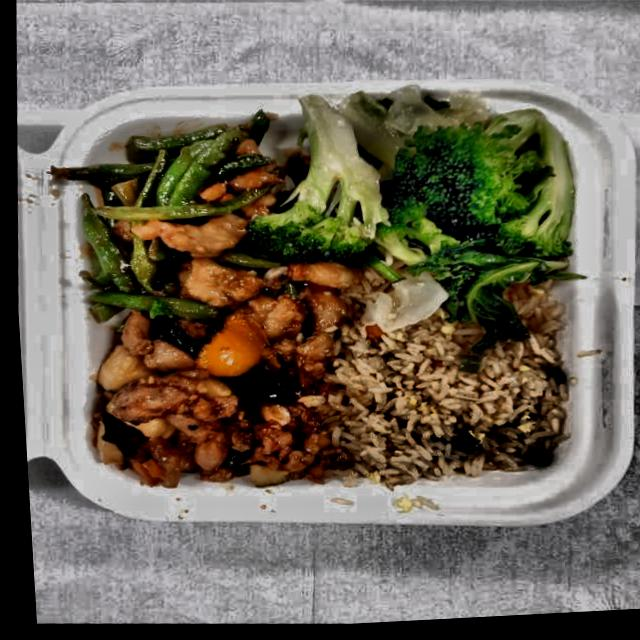Food: (282, 78, 588, 342), (67, 306, 354, 511), (56, 113, 296, 342), (317, 310, 570, 500)
